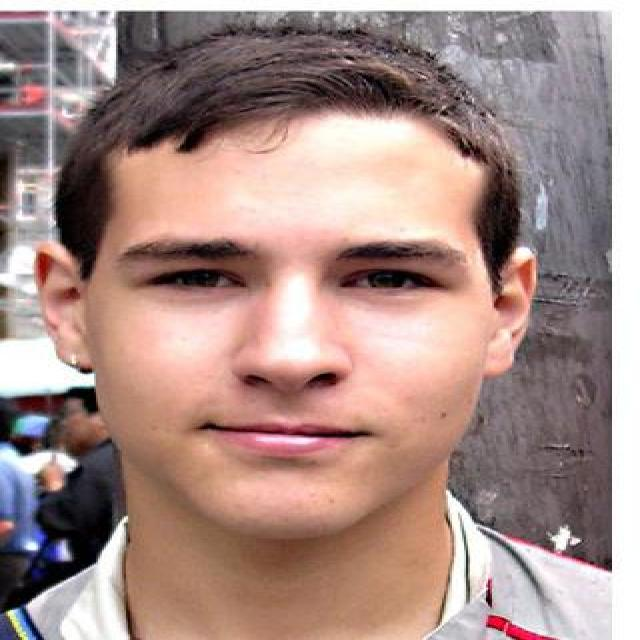no_mask: (67, 61, 602, 552)
